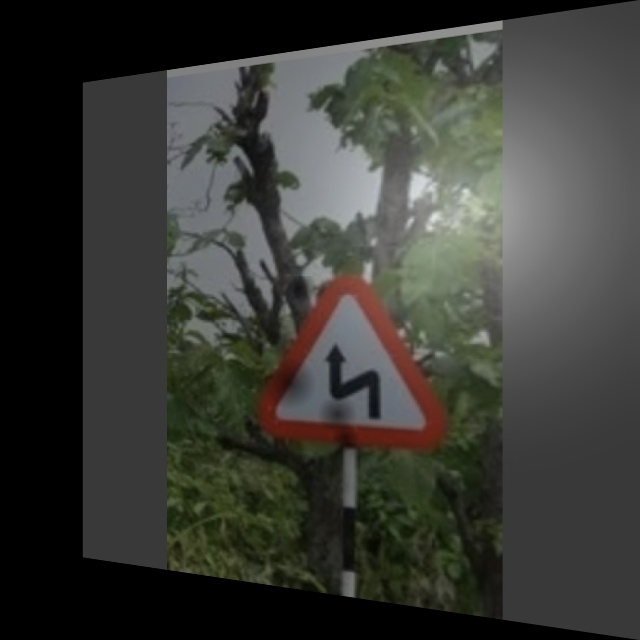Left_Reverse_Bend: (258, 276, 450, 453)
